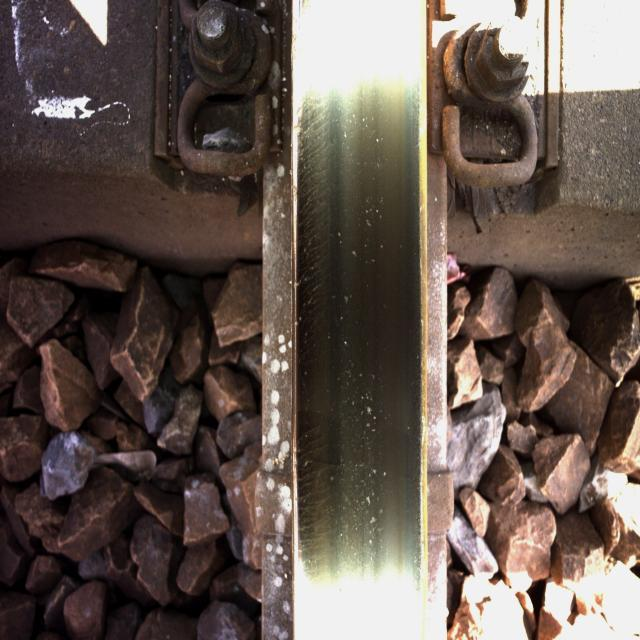normal: (304, 10, 405, 629)
